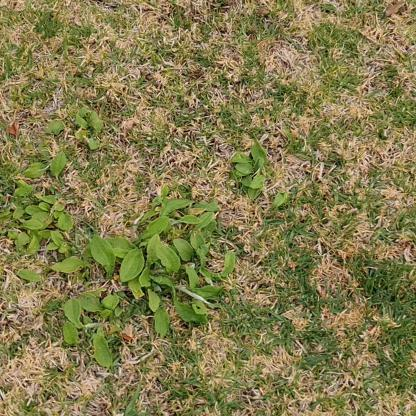Weeds: (0, 152, 236, 369), (46, 107, 103, 151), (230, 138, 268, 201)
